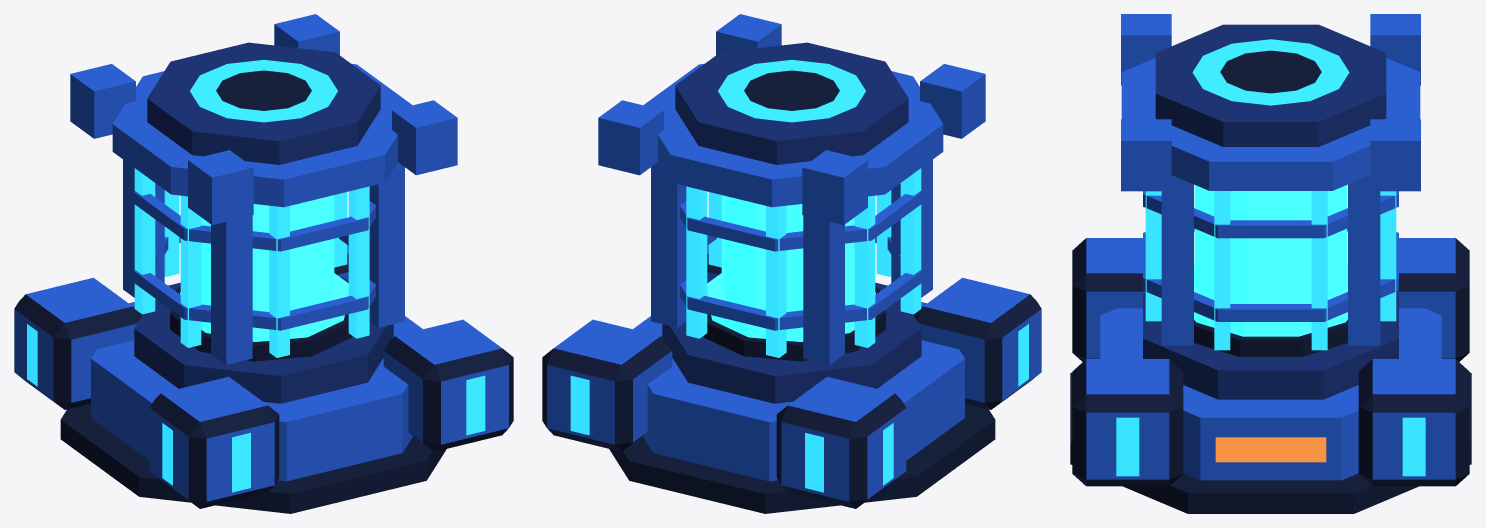
File: receiver_v3_cage.glb
3 renders of one model, left to right at view 1: azimuth 30°, elevation 25°; view 2: azimuth 150°, elevation 25°; view 3: azimuth 270°, elevation 25°, orthographic. The views are drawn at different scales.
Visible parts, largest first — view 1: Receiver_Body, Receiver_Lights, Receiver_Core; view 2: Receiver_Body, Receiver_Lights, Receiver_Core; view 3: Receiver_Body, Receiver_Lights, Receiver_Core.
Boxes of the visible parts, <box> form: Receiver_Body: <box>14,14,513,513</box>; Receiver_Lights: <box>27,59,485,492</box>; Receiver_Core: <box>180,195,348,341</box>; Receiver_Body: <box>542,14,1041,513</box>; Receiver_Lights: <box>570,59,1028,492</box>; Receiver_Core: <box>707,195,875,341</box>; Receiver_Body: <box>1070,14,1471,513</box>; Receiver_Lights: <box>1116,39,1425,476</box>; Receiver_Core: <box>1194,185,1347,336</box>.
Size of the model in its own units: 0.8684 by 0.8801 by 0.8684.
